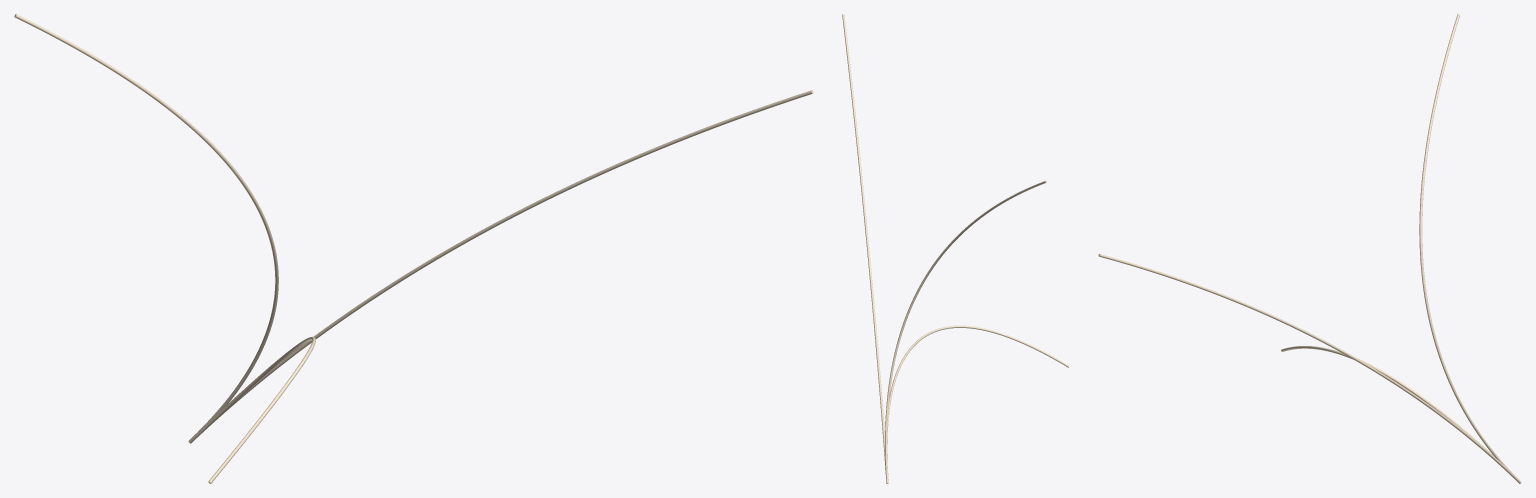
File: MeralEkinciogluSTRINGS.gltf
The picture shows the model from 3 angles, left to right: view 1: azimuth 30°, elevation 25°; view 2: azimuth 150°, elevation 25°; view 3: azimuth 270°, elevation 25°; orthographic projection. The views are drawn at different scales.
Visible parts, largest first — view 1: MeralEkinciogluSTRINGS; view 2: MeralEkinciogluSTRINGS; view 3: MeralEkinciogluSTRINGS.
Boxes of the visible parts, bbox=[...] form: MeralEkinciogluSTRINGS: bbox=[14, 14, 813, 483]; MeralEkinciogluSTRINGS: bbox=[842, 14, 1069, 483]; MeralEkinciogluSTRINGS: bbox=[1098, 14, 1521, 483].
Size of the model in its own units: 17.52 by 15.16 by 14.91.
